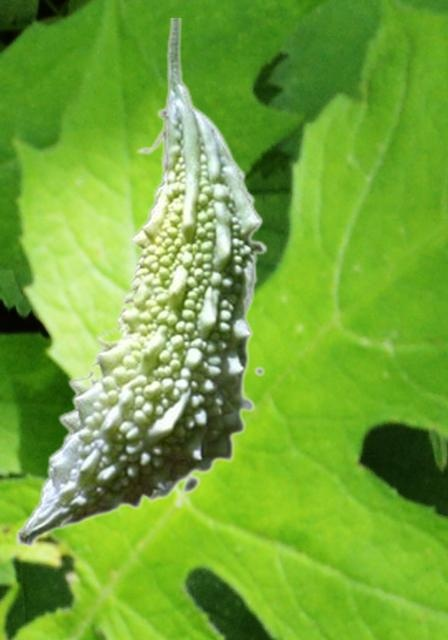ampalaya: (14, 18, 267, 547)
